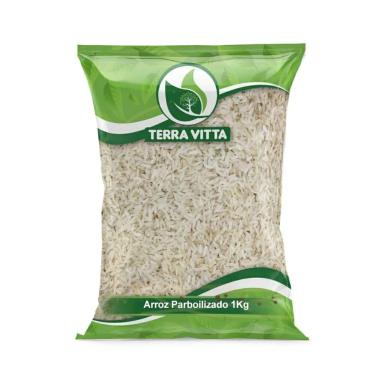rice package: (78, 45, 306, 339)
